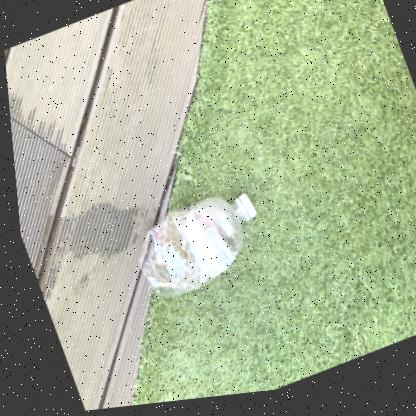Plastic: (136, 197, 251, 297)
